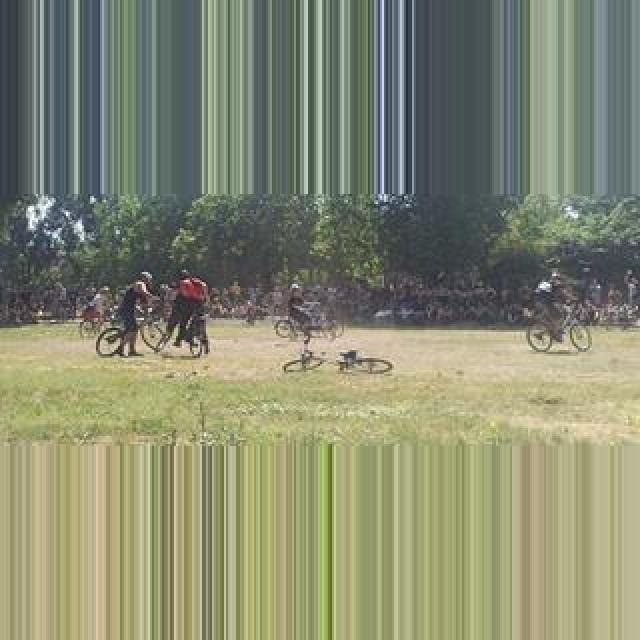MC-Bike: (114, 272, 160, 358), (164, 268, 210, 352), (534, 270, 574, 334)
Person: (95, 308, 167, 358), (284, 344, 394, 376), (526, 306, 594, 354), (274, 304, 344, 342)
